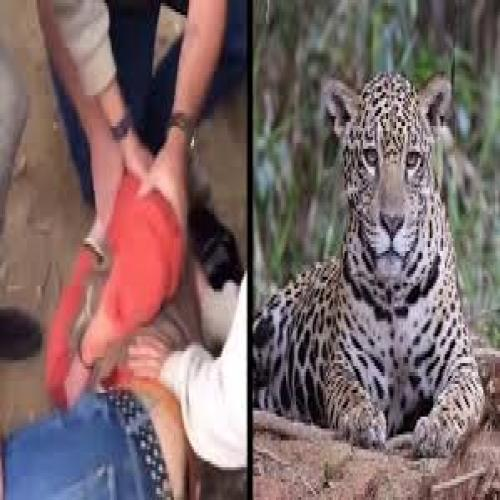jaguar_not-endangered: (254, 72, 483, 452)
